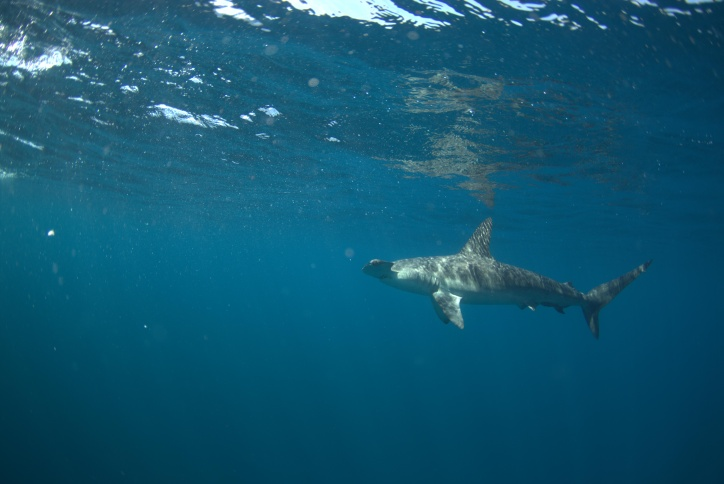Hammer: (353, 181, 672, 405)
